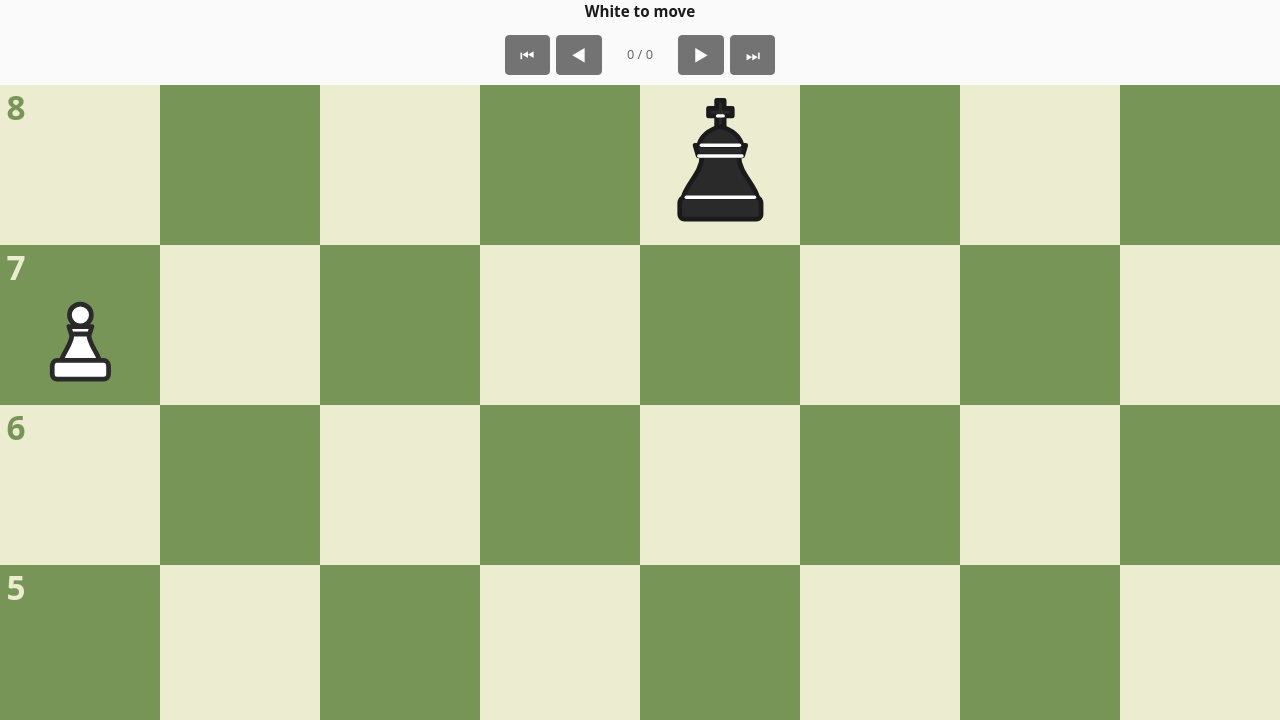
promotion › asks before promoting instead of picking a queen
The image size is (1280, 720).
Click the element showing "7" at (80, 325), box [0,245,160,405]
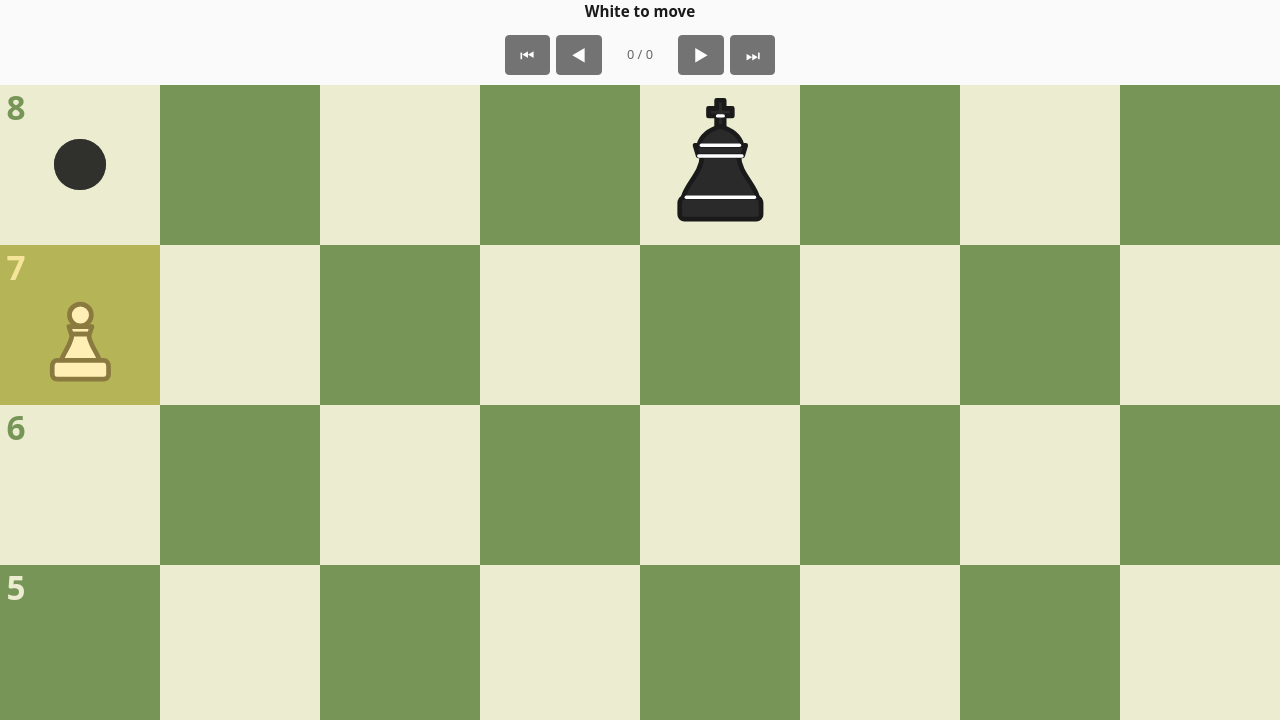
Click the element showing "8" at (80, 165), box [0,85,160,245]
(page scrolled)
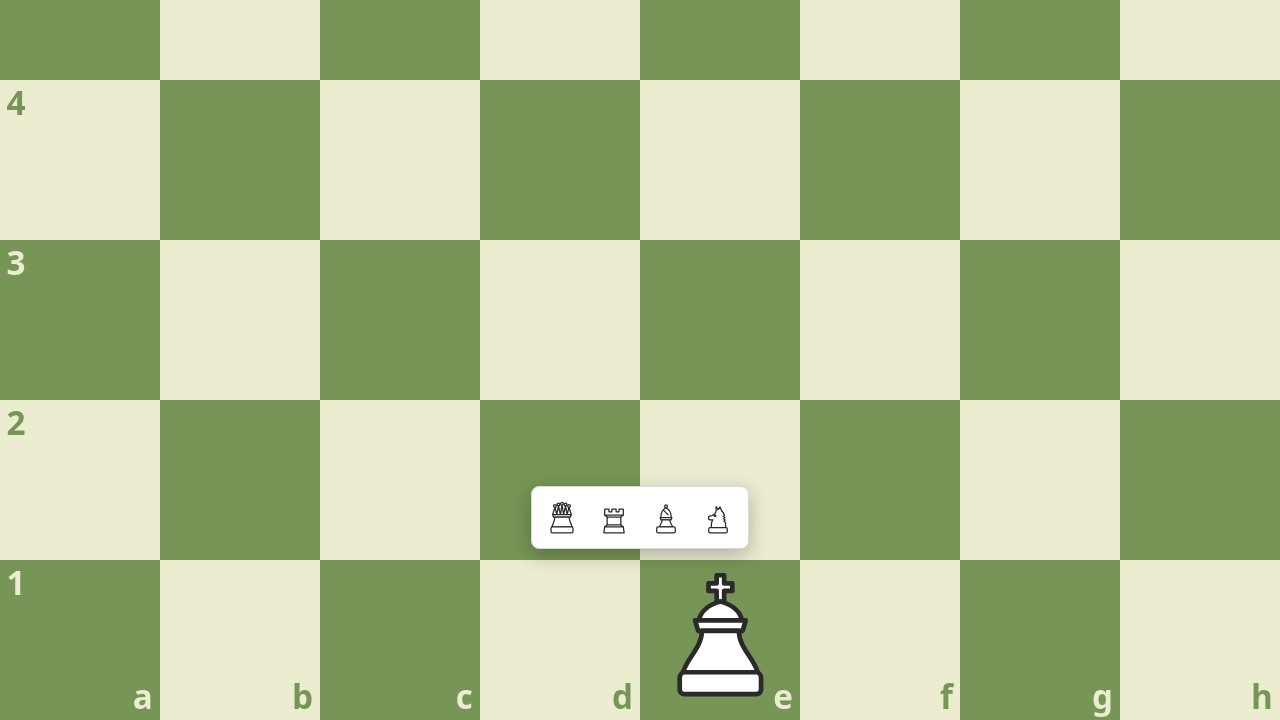
Now the element named "promotion" is shown, box [531,486,749,549]
